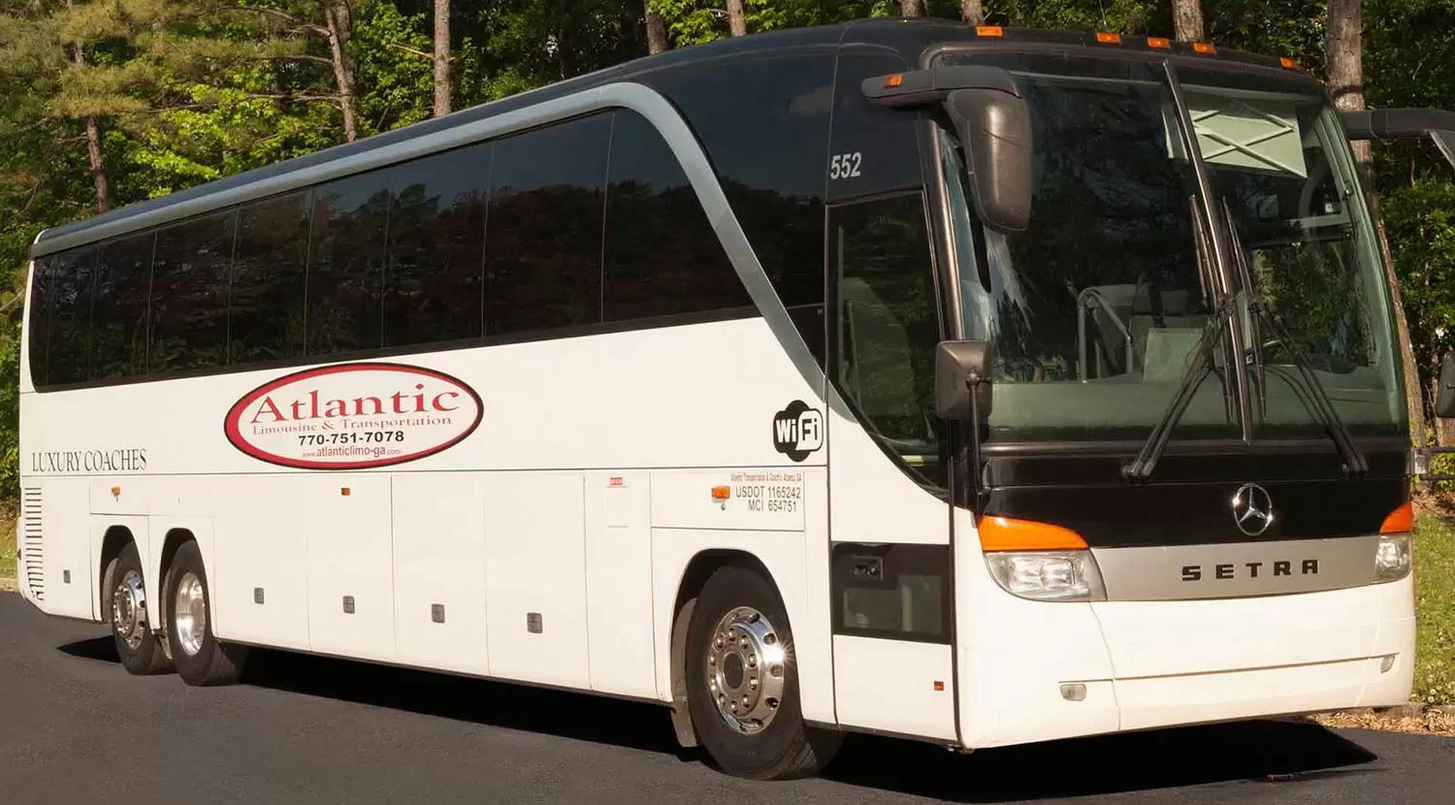Bus: (13, 19, 1448, 784)
